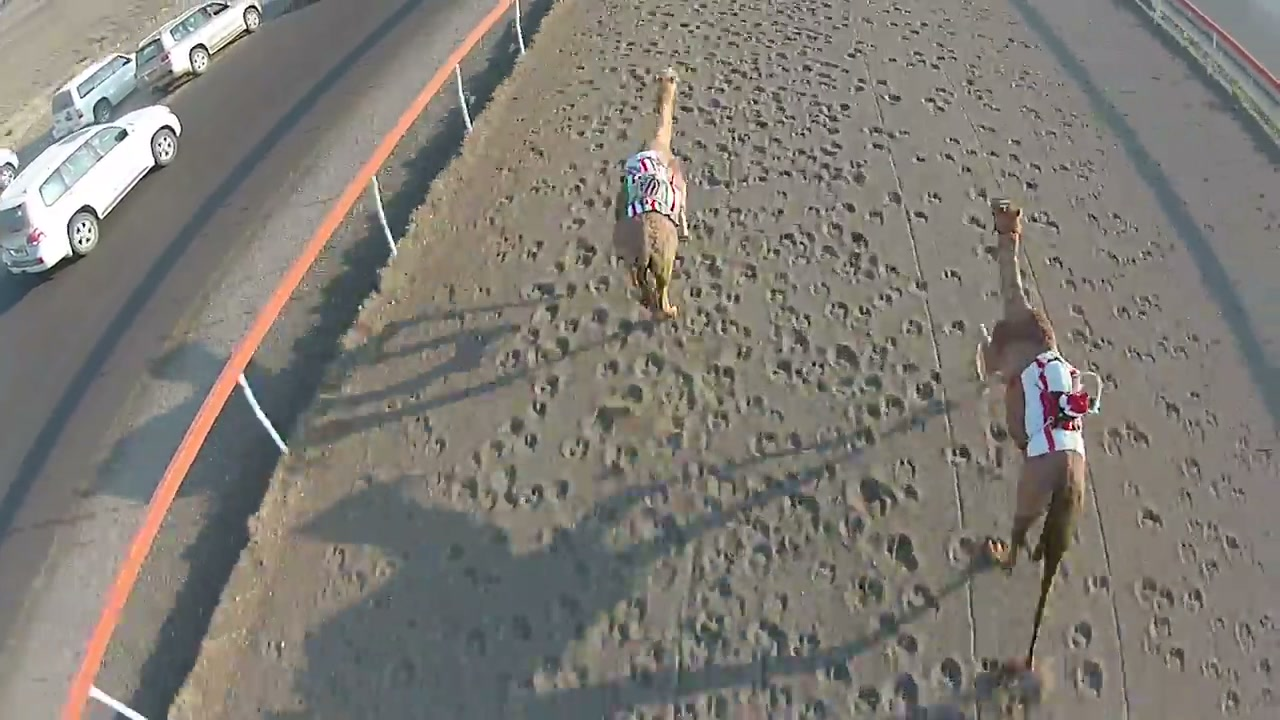animal_footprint: (606, 12, 960, 719), (806, 18, 1008, 628), (488, 189, 628, 549)
